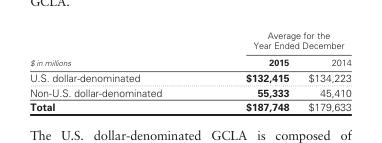table: (29, 29, 350, 112)
table column: (29, 29, 203, 112), (203, 29, 298, 112), (298, 29, 350, 112)
table column header: (29, 29, 350, 69)
table row: (29, 29, 350, 53), (29, 53, 350, 69), (29, 69, 350, 84), (29, 84, 350, 99), (29, 99, 350, 112)
table spanning cell: (29, 29, 203, 69), (203, 29, 350, 53)
